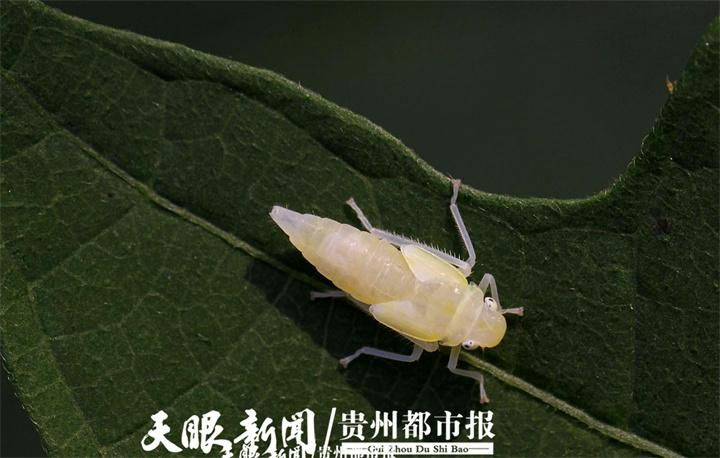Cicadellidae: (257, 195, 511, 373)
